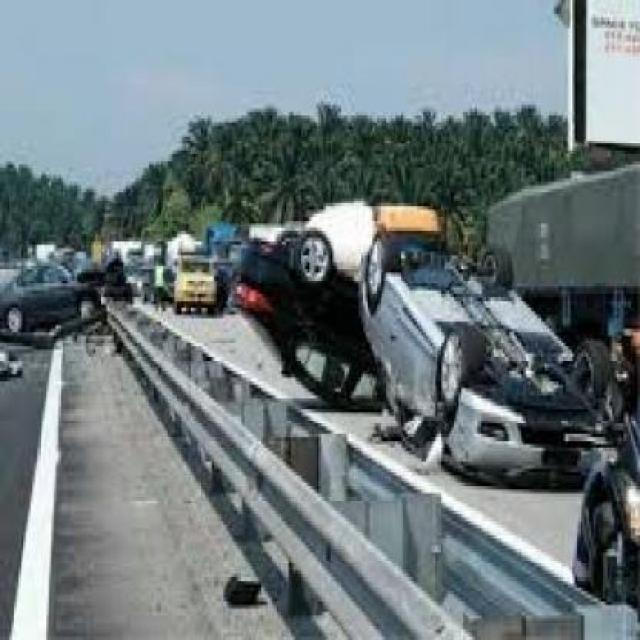accident: (247, 231, 638, 487), (2, 248, 126, 337)
